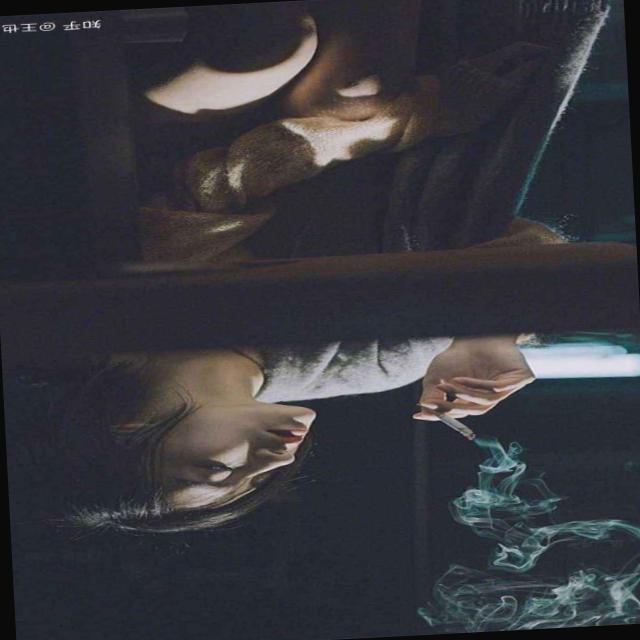cigarette: (424, 395, 516, 476)
